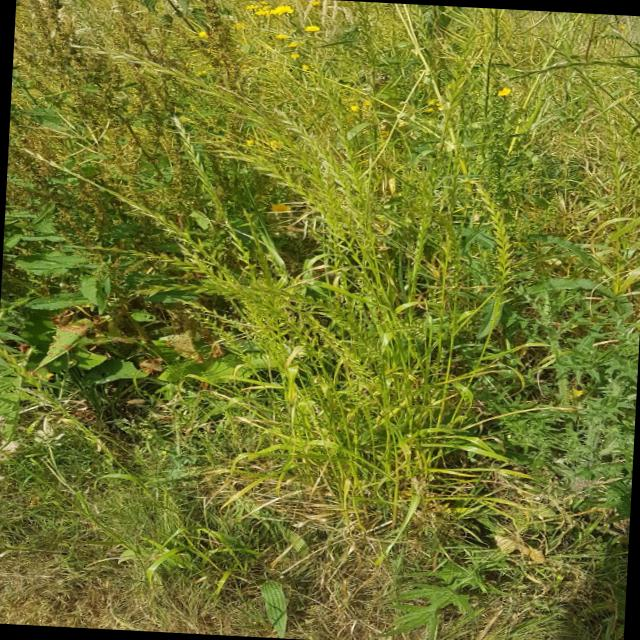Lolium: (60, 44, 372, 246), (12, 150, 240, 280), (188, 134, 371, 268), (518, 32, 632, 180), (165, 114, 265, 279), (132, 280, 324, 358), (270, 108, 359, 210), (428, 25, 476, 194), (462, 180, 520, 316), (66, 246, 228, 286), (306, 316, 382, 386), (178, 306, 260, 362), (0, 347, 66, 414), (505, 56, 640, 88), (176, 299, 249, 333), (435, 215, 462, 285), (410, 211, 432, 283)
